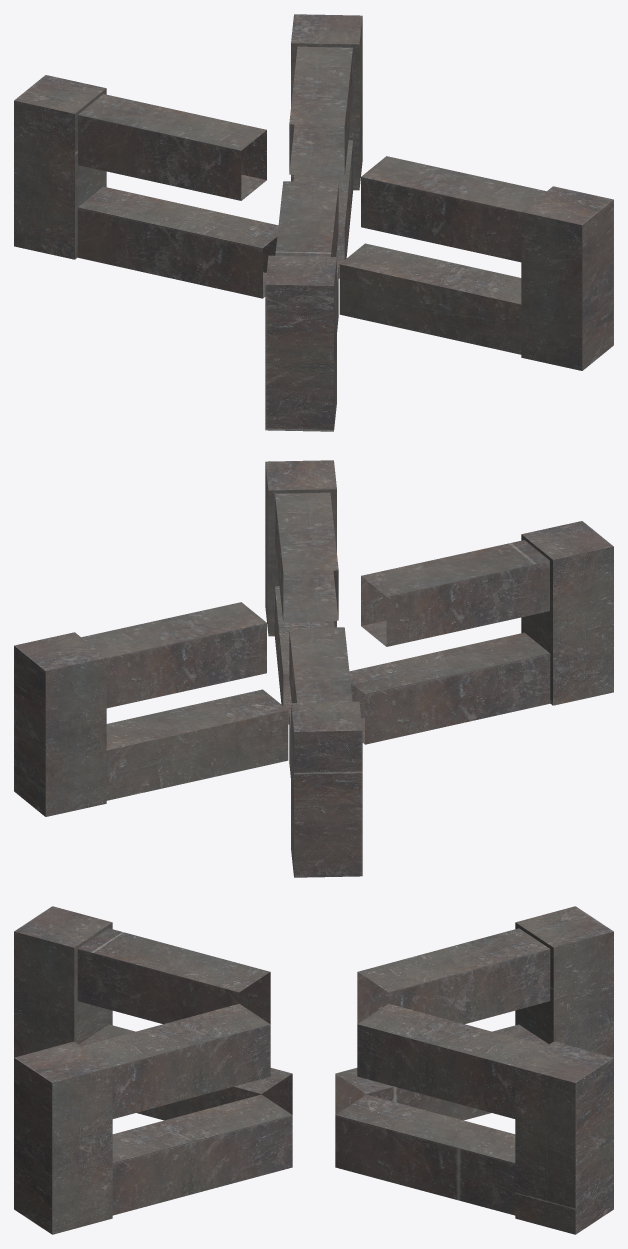
Rendered from EggBox.fbx.
The picture shows the model from 3 angles, top to bottom: view 1: azimuth 30°, elevation 25°; view 2: azimuth 150°, elevation 25°; view 3: azimuth 270°, elevation 25°; orthographic projection. The views are drawn at different scales.
Visible parts, largest first — view 1: EggBox; view 2: EggBox; view 3: EggBox.
Boxes of the visible parts, <box> form: EggBox: <box>14,14,613,431</box>; EggBox: <box>14,460,613,877</box>; EggBox: <box>14,906,613,1234</box>.
Bounding box in the file's own units: 142 × 56.96 × 204.
Materials: 1 (1 with a texture image).
